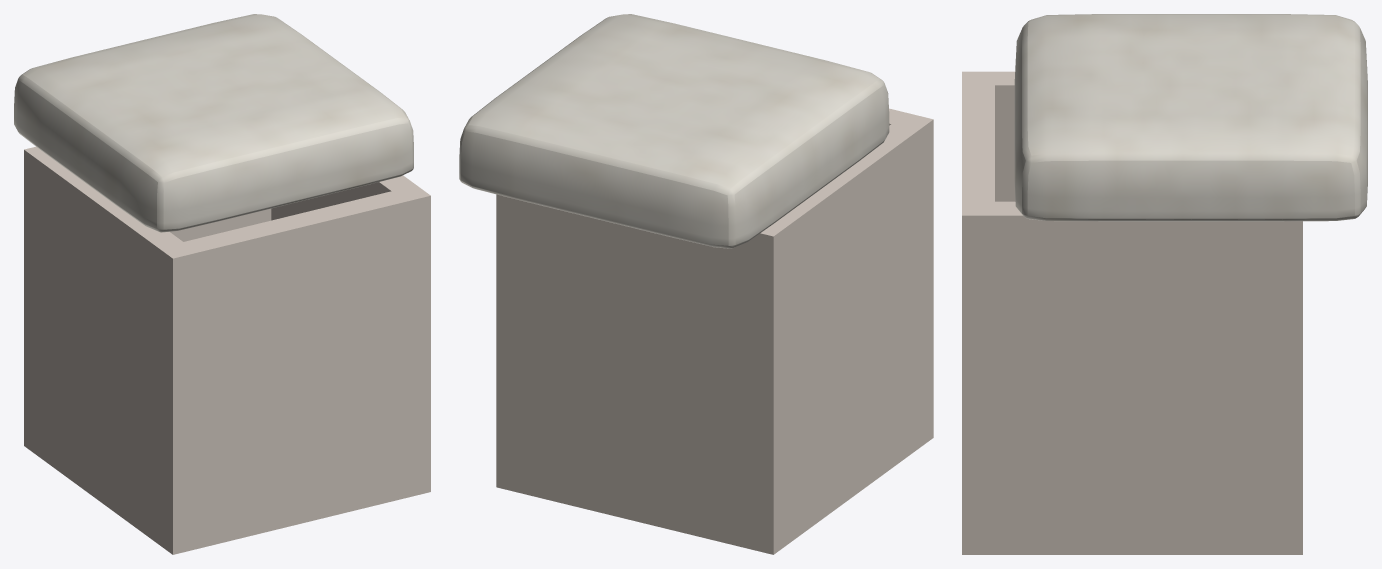
Rendered from Dresser_chair.fbx.
3 renders of one model, left to right at view 1: azimuth 30°, elevation 25°; view 2: azimuth 150°, elevation 25°; view 3: azimuth 270°, elevation 25°, orthographic. The views are drawn at different scales.
Parts seen in each view (by area): view 1: Cube.380, Cube.379; view 2: Cube.380, Cube.379; view 3: Cube.380, Cube.379.
Part boxes in pixels (bbox=[...]): Cube.380: bbox=[24, 146, 430, 554]; Cube.379: bbox=[14, 14, 413, 232]; Cube.380: bbox=[496, 108, 933, 554]; Cube.379: bbox=[459, 14, 889, 248]; Cube.380: bbox=[962, 71, 1302, 554]; Cube.379: bbox=[1014, 14, 1367, 221].
Size of the model in its own units: 32.18 by 40.4 by 35.95.
